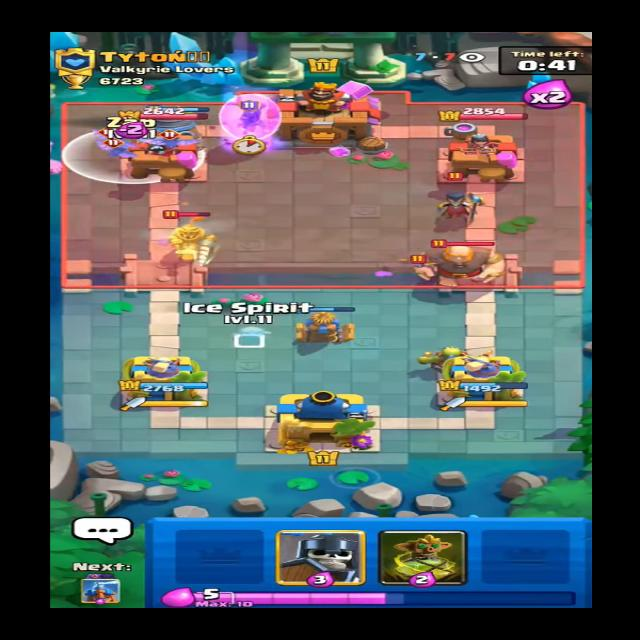bats: (394, 254, 438, 272)
evo-bats: (144, 132, 203, 153), (100, 142, 138, 162)
evo-wizard: (218, 92, 292, 145)
giant: (414, 236, 518, 283)
night-witch: (435, 172, 481, 225)
prince: (164, 208, 223, 268)
